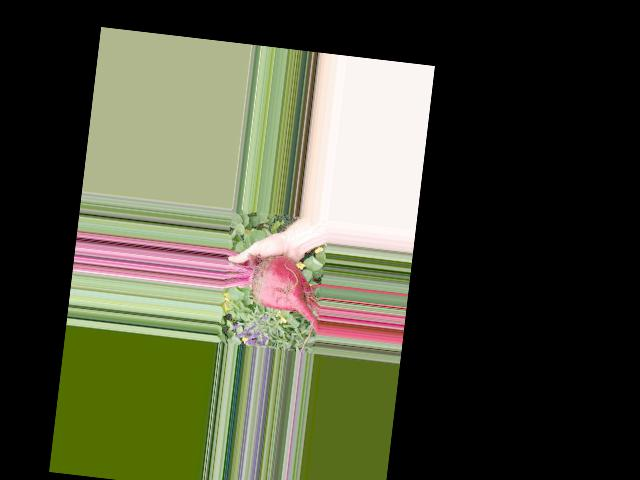beet: (219, 250, 326, 333)
